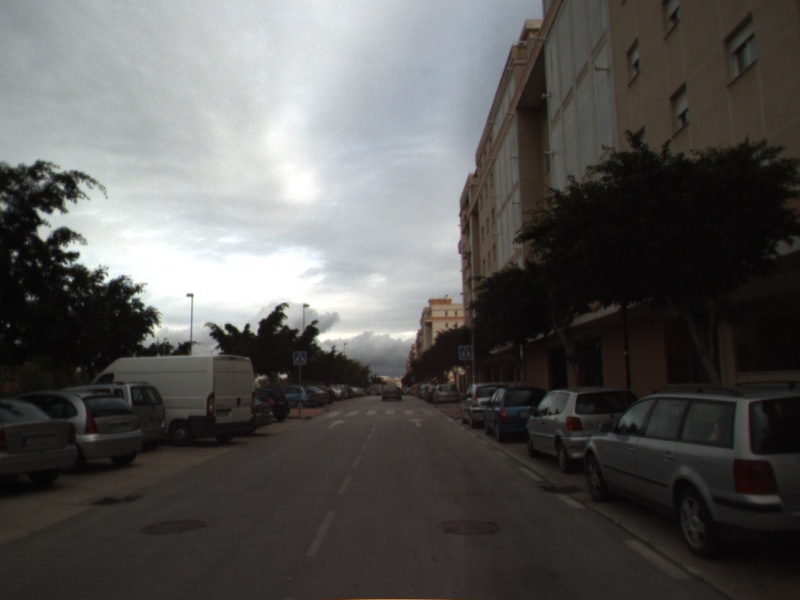STRAIGHT: (325, 417, 348, 431), (406, 415, 426, 429)
